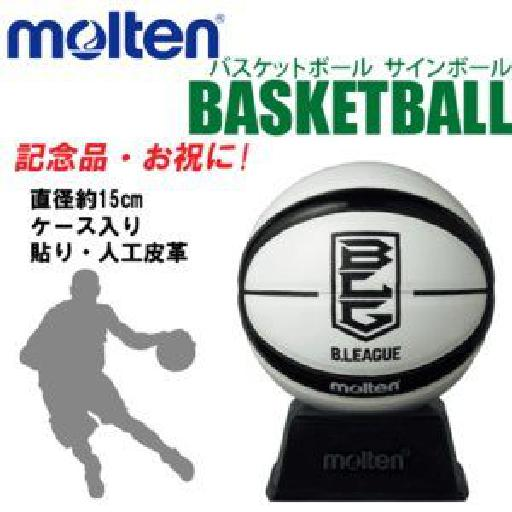ball: (237, 159, 496, 408)
